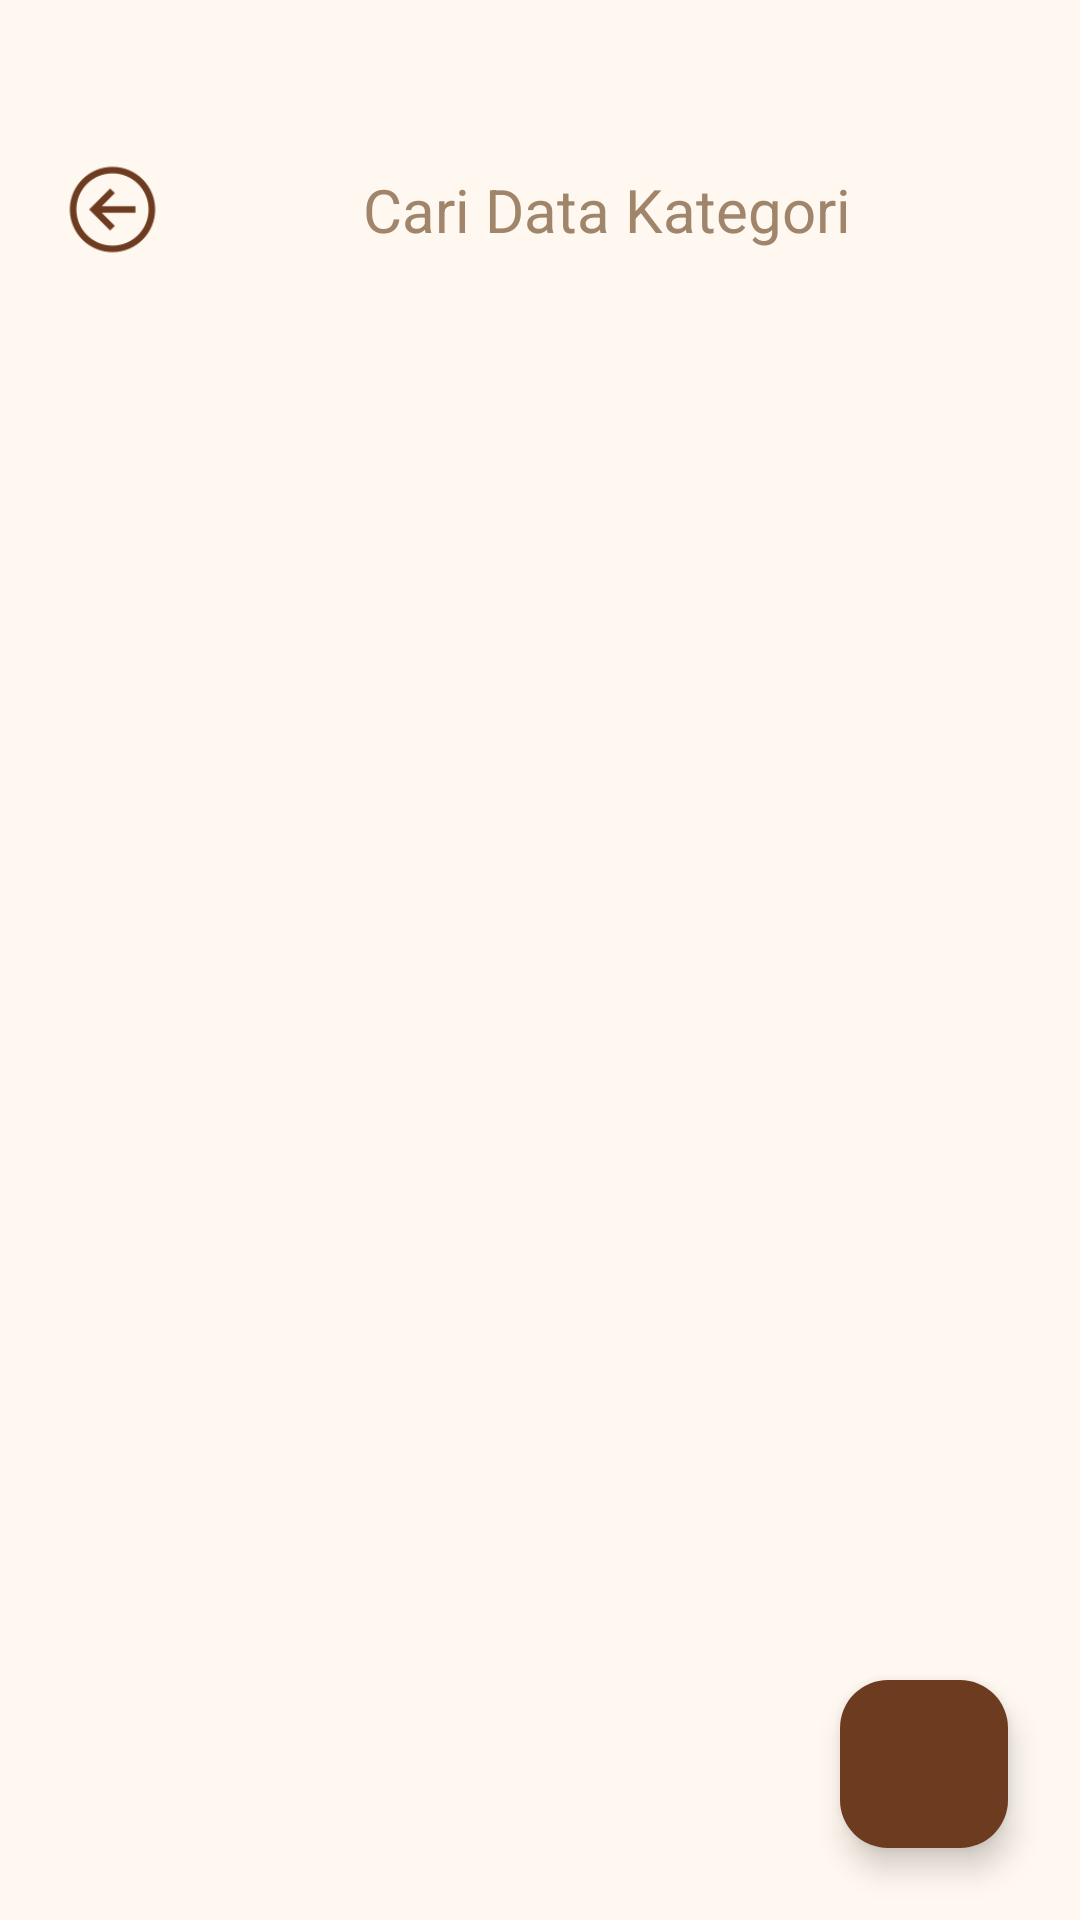

Icon bounding boxes for this 1080x1920 phone screenshot, format [x1,y1,x2,y2]:
Kembali: [69,166,156,253]
